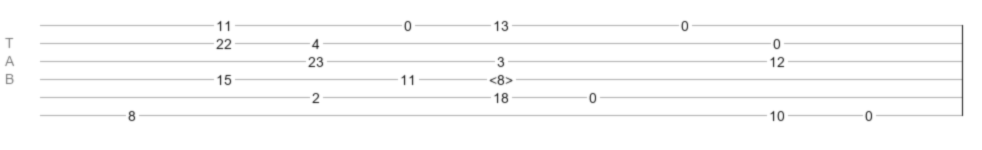0: (404, 18, 412, 28), (589, 90, 597, 100), (681, 18, 689, 28), (773, 36, 781, 46), (865, 108, 873, 118)
10: (769, 108, 785, 118)
11: (216, 18, 232, 28), (400, 72, 416, 82)
12: (769, 54, 785, 64)
13: (493, 18, 509, 28)
15: (216, 72, 232, 82)
18: (493, 90, 509, 100)
2: (312, 90, 320, 100)
22: (216, 36, 232, 46)
23: (308, 54, 324, 64)
3: (497, 54, 505, 64)
4: (312, 36, 320, 46)
8: (128, 108, 136, 118)
harmonic: (489, 72, 513, 82)
